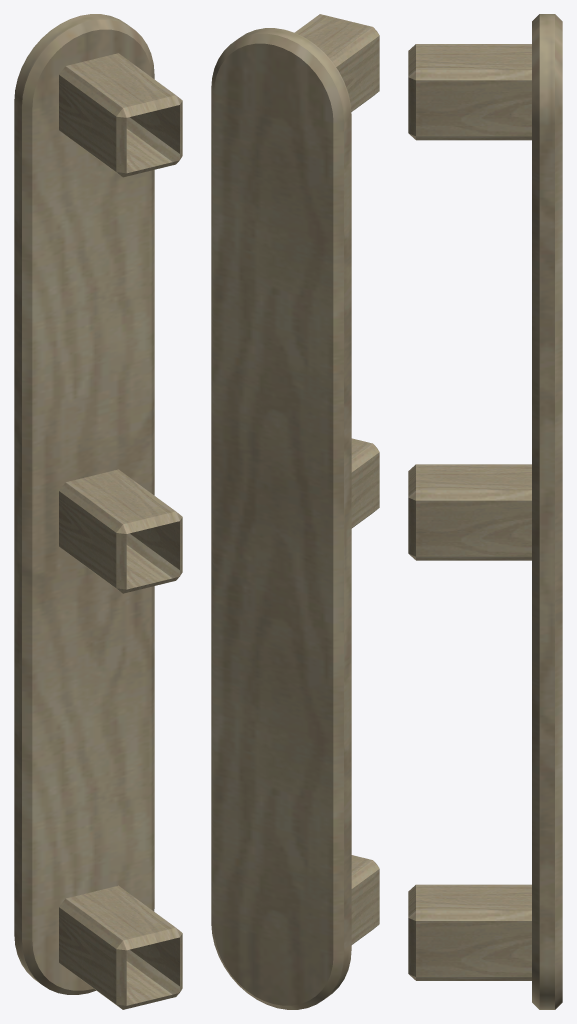
The model's file is FenceCommon.FBX.
3 renders of one model, left to right at view 1: azimuth 30°, elevation 25°; view 2: azimuth 150°, elevation 25°; view 3: azimuth 270°, elevation 25°, orthographic.
Parts seen in each view (by area): view 1: polySurface2311_10__Wood00_T; view 2: polySurface2311_10__Wood00_T; view 3: polySurface2311_10__Wood00_T.
Part boxes in pixels (bbox=[...]): polySurface2311_10__Wood00_T: bbox=[14, 14, 182, 1009]; polySurface2311_10__Wood00_T: bbox=[211, 14, 379, 1009]; polySurface2311_10__Wood00_T: bbox=[408, 14, 562, 1009].
Size of the model in its own units: 100 by 701 by 100.
